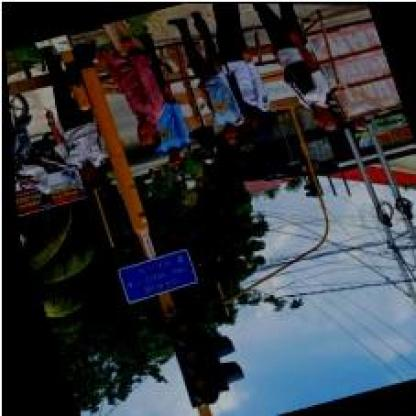red: (156, 315, 214, 407)
